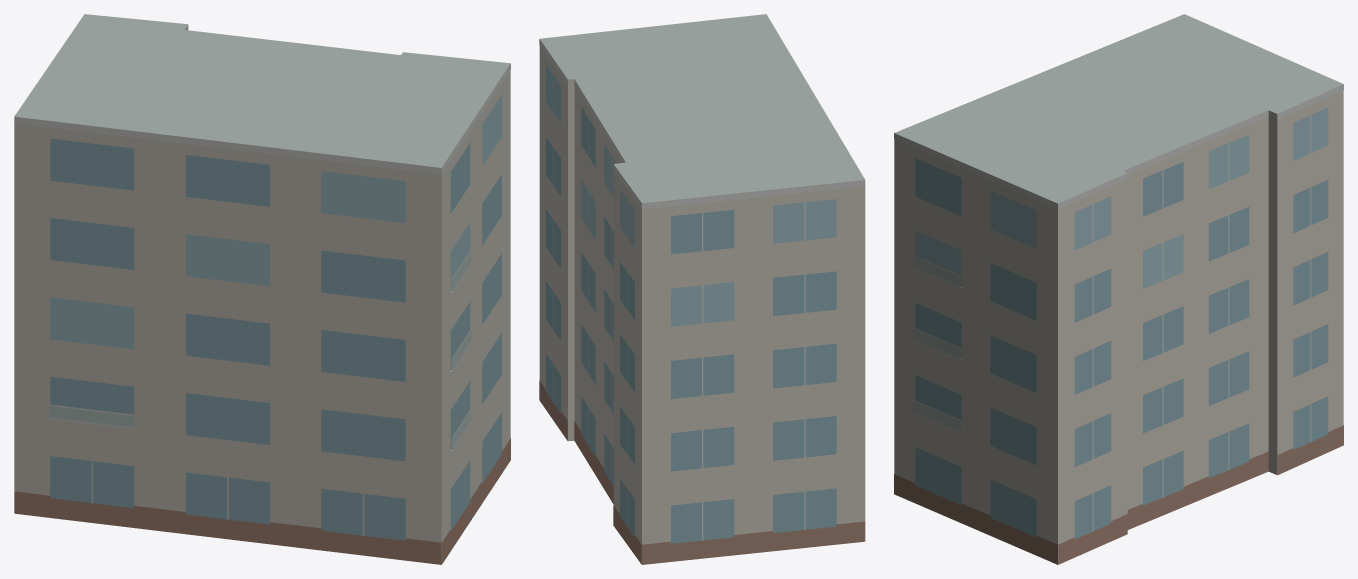
The model's file is survey-upis-32722315.glb.
3 renders of one model, left to right at view 1: azimuth 30°, elevation 25°; view 2: azimuth 150°, elevation 25°; view 3: azimuth 270°, elevation 25°, orthographic. The views are drawn at different scales.
Parts seen in each view (by area): view 1: survey-upis-32722315.tmp; view 2: survey-upis-32722315.tmp; view 3: survey-upis-32722315.tmp.
Part boxes in pixels (left/top/right/bottom): survey-upis-32722315.tmp: left=14, top=14, right=510, bottom=564; survey-upis-32722315.tmp: left=539, top=14, right=865, bottom=564; survey-upis-32722315.tmp: left=894, top=14, right=1343, bottom=564.
Size of the model in its own units: 16.1 by 14.29 by 16.12.
